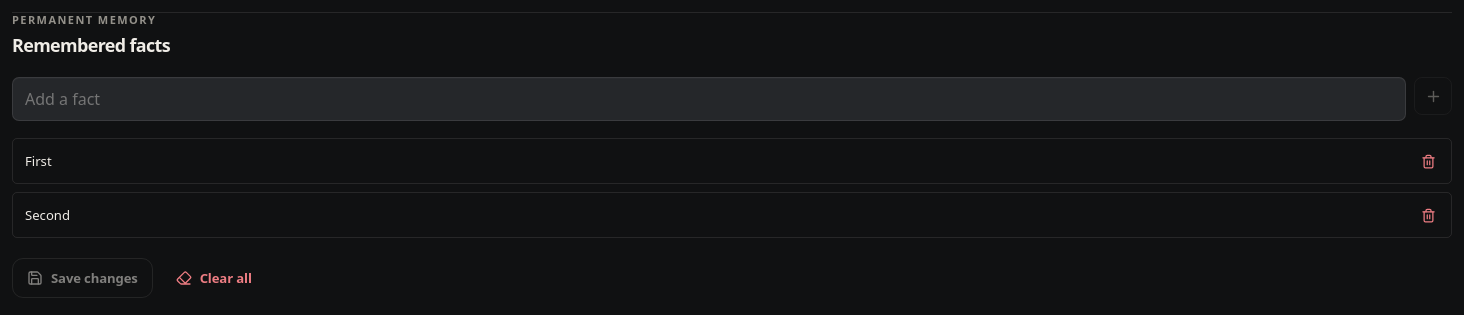
it: MemoryPanel unsaved changes › puts a removed row back with Undo and is clean again
Click the button named "Remove memory 2".
click(1428, 215)  # box [1413,200,1443,230]
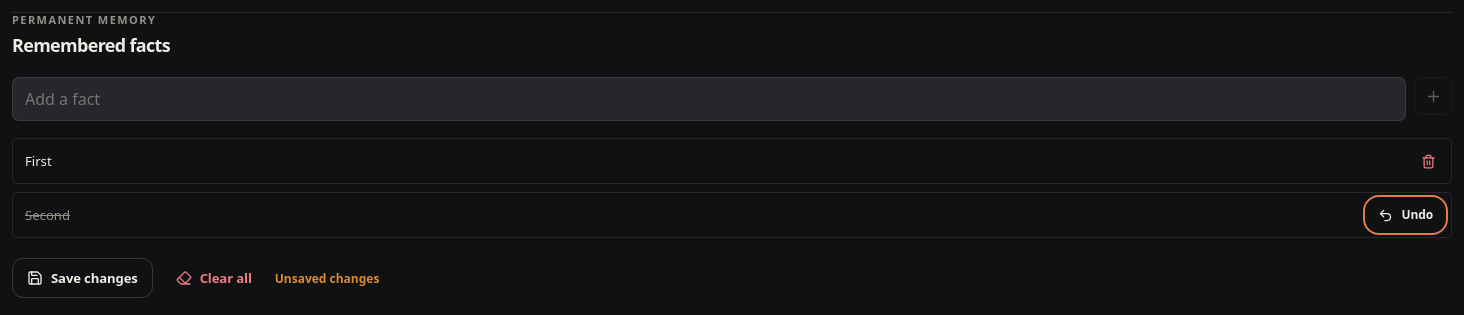
Click the button with aria-label "Undo removing memory 2".
click(1406, 215)  # box [1368,200,1443,230]
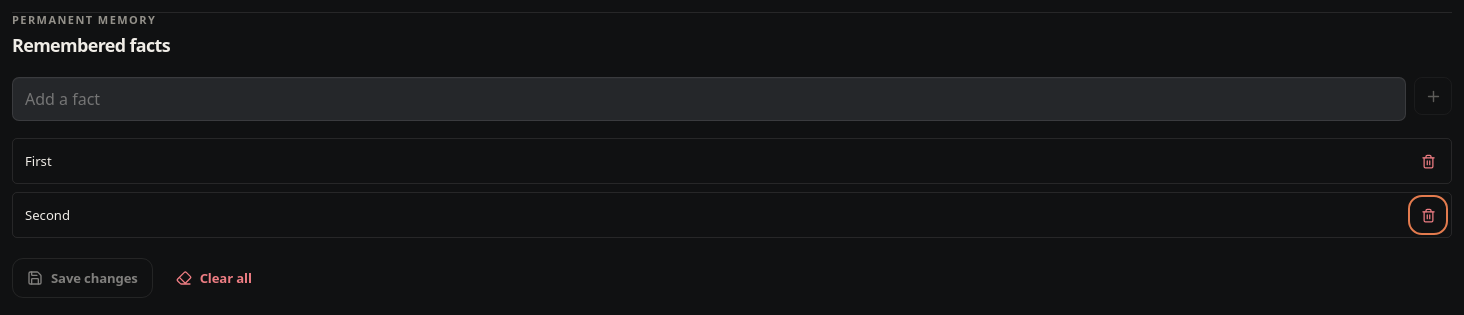
Expected: the field named "Memory 2" holds "Second", [21,202,1406,229]
Result: the button "Save changes" is disabled at [12,258,153,298]
